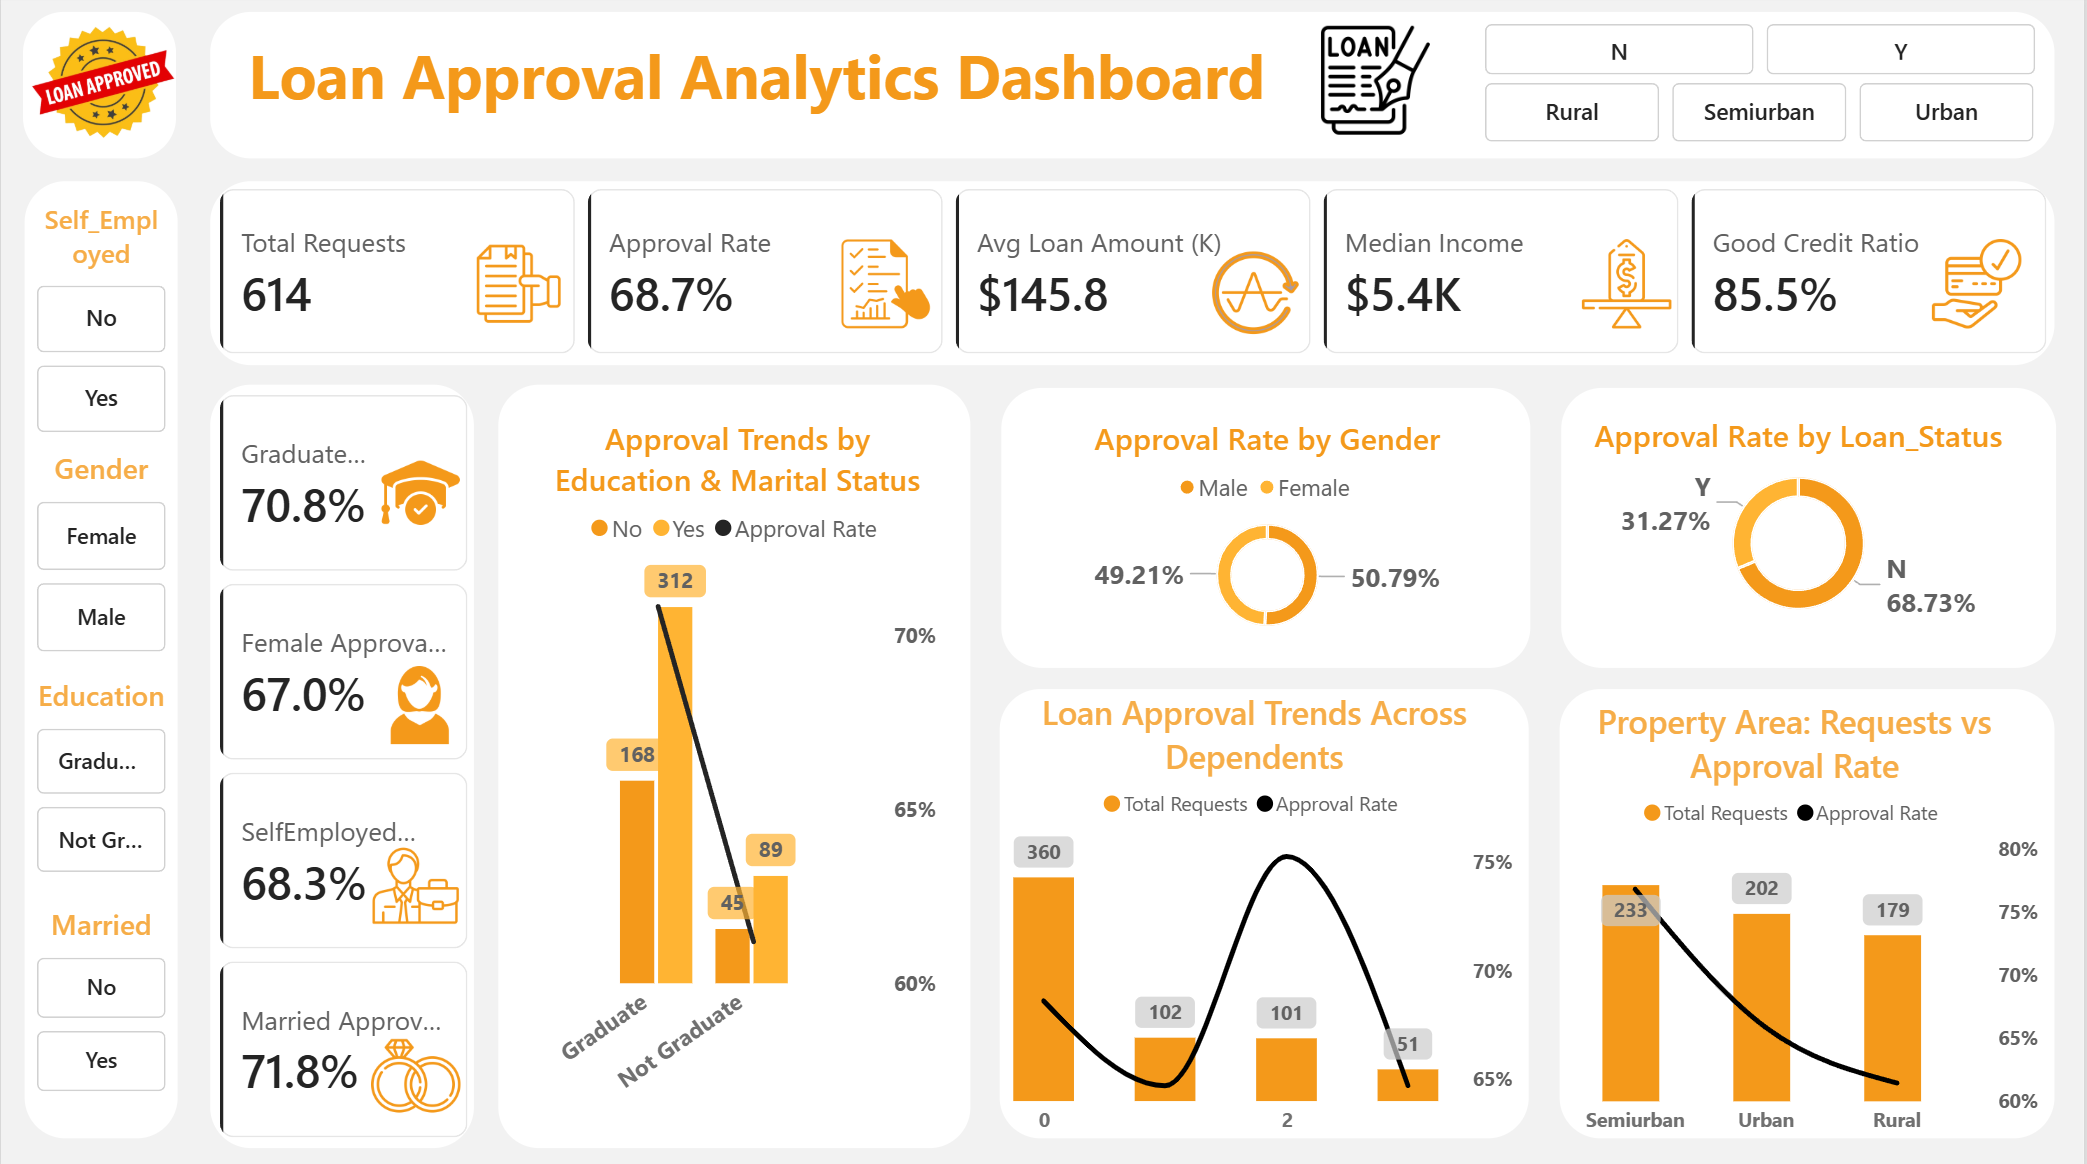

The page's visual inventory and layout, read from the dashboard file:
{"tool":"powerbi","page":{"name":"Page 1","canvas":[1280,720],"ordinal":0},"visuals":[{"type":"cardVisual","fields":{"Data":["_Measures.Total Requests","_Measures.Approval Rate","_Measures.Avg Loan Amount (K)","_Measures.Median Income","_Measures.Good Credit Ratio"]},"box":[134.7,118.6,1125.9,101.9],"z":0},{"type":"cardVisual","fields":{"Data":["_Measures.Graduate Approval Rate","_Measures.Female Approval Rate","_Measures.SelfEmployed Approval Rate","_Measures.Married Approval Rate"]},"box":[134.7,245.3,152.8,458.4],"z":1000},{"type":"lineClusteredColumnComboChart","title":"Approval Trends by Education & Marital Status","fields":{"Category":["LOANDATA.Education"],"Series":["LOANDATA.Married"],"Y":["_Measures.Total Requests"],"Y2":["_Measures.Approval Rate"]},"box":[311.6,245.3,282.1,458.4],"z":2000},{"type":"donutChart","fields":{"Category":["LOANDATA.Gender"],"Y":["_Measures.Approval Rate"]},"box":[620.6,245.3,315,166.2],"z":3000},{"type":"donutChart","fields":{"Category":["LOANDATA.Loan_Status"],"Y":["_Measures.Approval Rate"]},"box":[957.7,243.3,292.9,160.8],"z":4000},{"type":"lineStackedColumnComboChart","title":"Loan Approval Trends Across Dependents","fields":{"Category":["LOANDATA.Dependents"],"Y":["_Measures.Total Requests"],"Y2":["_Measures.Approval Rate"]},"box":[594.4,411.5,350.5,308.3],"z":5000},{"type":"lineStackedColumnComboChart","title":"Property Area: Requests vs Approval Rate","fields":{"Category":["LOANDATA.Property_Area"],"Y":["_Measures.Total Requests"],"Y2":["_Measures.Approval Rate"]},"box":[935.5,416.8,332.4,302.9],"z":6000},{"type":"advancedSlicerVisual","fields":{"Values":["LOANDATA.Gender"]},"box":[22.1,277.4,79.1,126.7],"z":7000},{"type":"advancedSlicerVisual","fields":{"Values":["LOANDATA.Education"]},"box":[22.1,416.8,79.1,122],"z":8000},{"type":"advancedSlicerVisual","fields":{"Values":["LOANDATA.Married"]},"box":[22.1,557.6,79.1,115.9],"z":9000},{"type":"advancedSlicerVisual","fields":{"Values":["LOANDATA.Self_Employed"]},"box":[22.1,126,79.1,142.1],"z":10000},{"type":"advancedSlicerVisual","fields":{"Values":["LOANDATA.Property_Area"]},"box":[911.4,53.6,339.1,36.2],"z":11000},{"type":"advancedSlicerVisual","fields":{"Values":["LOANDATA.Loan_Status"]},"box":[911.4,17.4,339.1,31.5],"z":12000},{"type":"image","box":[14.7,3.4,95.8,100.5],"z":13000},{"type":"textbox","box":[141.4,23.5,646,80.4],"z":14000},{"type":"image","box":[794.1,17.4,99.9,67.7],"z":15000},{"type":"image","box":[287.5,149.4,60.3,55],"z":16000},{"type":"image","box":[741.9,154.8,56.3,55],"z":17000},{"type":"image","box":[512.7,149.4,60.3,55],"z":18000},{"type":"image","box":[968.4,149.4,60.3,55],"z":19000},{"type":"image","box":[1183.5,149.4,60.3,55],"z":20000},{"type":"image","box":[227.3,286.3,60.2,54.7],"z":21000},{"type":"image","box":[227.2,411.5,60.3,47.6],"z":22000},{"type":"image","box":[227.2,519.4,55.6,55],"z":23000},{"type":"image","box":[227.2,636,55.6,55],"z":24000}]}

Visuals, with their boxes in screenshot pixels (x1, y1, x2, y2), scaled from the page's 1280x720 canvas onto the 2087x1164 screenshot:
cardVisual - _Measures.Total Requests x _Measures.Approval Rate: [220,192,2055,356]
cardVisual - _Measures.Graduate Approval Rate x _Measures.Female Approval Rate: [220,397,469,1138]
"Approval Trends by Education & Marital Status" lineClusteredColumnComboChart: [508,397,968,1138]
donutChart - LOANDATA.Gender x _Measures.Approval Rate: [1012,397,1525,665]
donutChart - LOANDATA.Loan_Status x _Measures.Approval Rate: [1561,393,2039,653]
"Loan Approval Trends Across Dependents" lineStackedColumnComboChart: [969,665,1541,1163]
"Property Area: Requests vs Approval Rate" lineStackedColumnComboChart: [1525,674,2067,1163]
advancedSlicerVisual - LOANDATA.Gender: [36,448,165,653]
advancedSlicerVisual - LOANDATA.Education: [36,674,165,871]
advancedSlicerVisual - LOANDATA.Married: [36,901,165,1089]
advancedSlicerVisual - LOANDATA.Self_Employed: [36,204,165,433]
advancedSlicerVisual - LOANDATA.Property_Area: [1486,87,2039,145]
advancedSlicerVisual - LOANDATA.Loan_Status: [1486,28,2039,79]
image: [24,5,180,168]
textbox: [231,38,1284,168]
image: [1295,28,1458,138]
image: [469,242,567,330]
image: [1210,250,1301,339]
image: [836,242,934,330]
image: [1579,242,1677,330]
image: [1930,242,2028,330]
image: [371,463,469,551]
image: [370,665,469,742]
image: [370,840,461,929]
image: [370,1028,461,1117]
